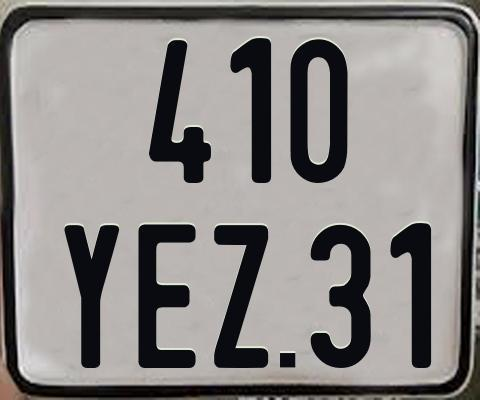0: (289, 37, 347, 186)
1: (227, 37, 272, 185), (390, 223, 431, 370)
3: (311, 222, 376, 369)
4: (147, 39, 212, 187)
E: (135, 224, 193, 373)
Y: (61, 222, 122, 369)
Z: (211, 224, 268, 371)
